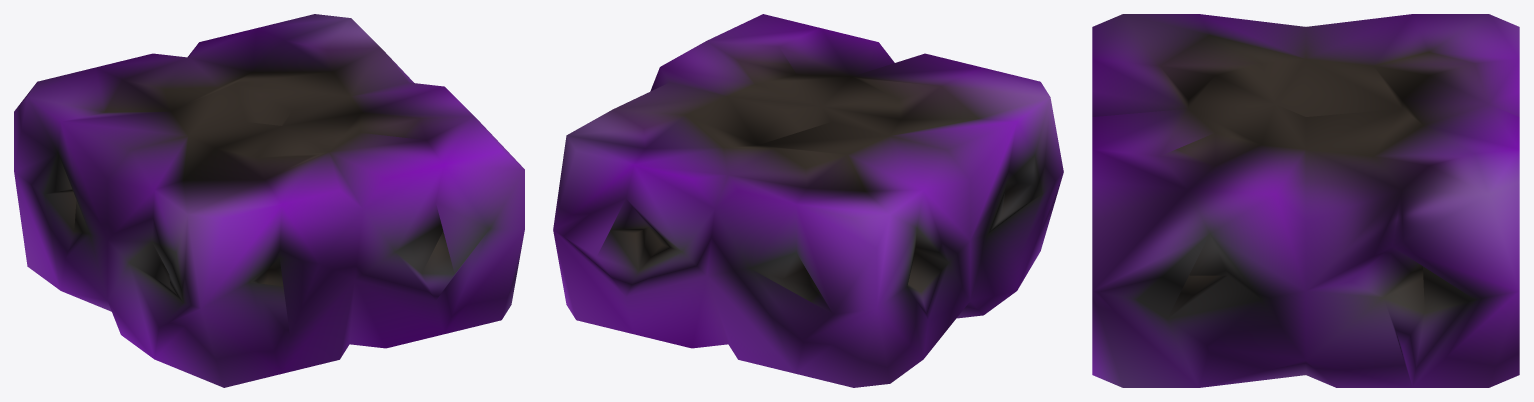
File: ciws_base_lod5.glb
The picture shows the model from 3 angles, left to right: view 1: azimuth 30°, elevation 25°; view 2: azimuth 150°, elevation 25°; view 3: azimuth 270°, elevation 25°; orthographic projection. The views are drawn at different scales.
Visible parts, largest first — view 1: ciws_base; view 2: ciws_base; view 3: ciws_base.
Part boxes in pixels (x1,y1,x2,y2): ciws_base: (14, 14, 524, 387); ciws_base: (553, 14, 1063, 387); ciws_base: (1092, 14, 1519, 387).
Size of the model in its own units: 4 by 2 by 4.
